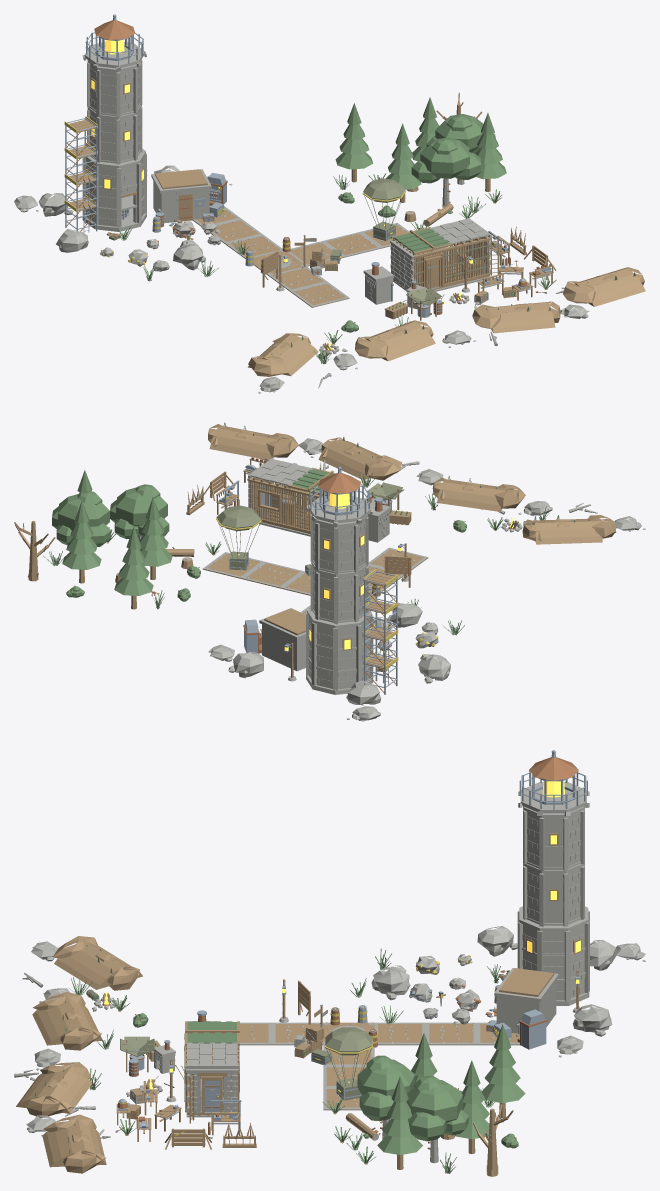
The model's file is phare-ile.glb.
3 renders of one model, top to bottom at view 1: azimuth 30°, elevation 25°; view 2: azimuth 150°, elevation 25°; view 3: azimuth 270°, elevation 25°, orthographic. The views are drawn at different scales.
Parts seen in each view (by area): view 1: 000-lighthouse-base-stage/0, 002-lighthouse-mid-stage/0, 001-lighthouse-mid-stage/0, 068-birch-tree/2, 135-sand-dune-bank/0, 137-sand-dune-bank/0, 134-sand-dune-bank/0, 136-sand-dune-bank/0, 014-lighthouse-loot-room/0, 066-pine-tree/1, 091-twig-wall/0, 062-airdrop-crate/0 (+20 smaller); view 2: 000-lighthouse-base-stage/0, 002-lighthouse-mid-stage/0, 001-lighthouse-mid-stage/0, 136-sand-dune-bank/0, 134-sand-dune-bank/0, 137-sand-dune-bank/0, 135-sand-dune-bank/0, 068-birch-tree/2, 069-birch-tree/2, 014-lighthouse-loot-room/0, 065-pine-tree/1, 066-pine-tree/1 (+23 smaller); view 3: 000-lighthouse-base-stage/0, 002-lighthouse-mid-stage/0, 001-lighthouse-mid-stage/0, 069-birch-tree/2, 136-sand-dune-bank/0, 137-sand-dune-bank/0, 134-sand-dune-bank/0, 135-sand-dune-bank/0, 068-birch-tree/2, 014-lighthouse-loot-room/0, 066-pine-tree/1, 067-pine-tree/1 (+19 smaller).
Part boxes in pixels (bbox=[...]): 000-lighthouse-base-stage/0: bbox=[82, 148, 146, 231]; 002-lighthouse-mid-stage/0: bbox=[87, 59, 142, 117]; 001-lighthouse-mid-stage/0: bbox=[87, 105, 142, 164]; 068-birch-tree/2: bbox=[411, 137, 481, 183]; 135-sand-dune-bank/0: bbox=[472, 301, 560, 333]; 137-sand-dune-bank/0: bbox=[563, 267, 645, 306]; 134-sand-dune-bank/0: bbox=[355, 320, 435, 361]; 136-sand-dune-bank/0: bbox=[248, 333, 318, 376]; 014-lighthouse-loot-room/0: bbox=[151, 169, 211, 223]; 066-pine-tree/1: bbox=[335, 103, 372, 169]; 091-twig-wall/0: bbox=[451, 237, 490, 283]; 062-airdrop-crate/0: bbox=[363, 178, 405, 240]; 000-lighthouse-base-stage/0: bbox=[306, 607, 373, 694]; 002-lighthouse-mid-stage/0: bbox=[310, 514, 368, 574]; 001-lighthouse-mid-stage/0: bbox=[310, 561, 368, 624]; 136-sand-dune-bank/0: bbox=[522, 515, 615, 544]; 134-sand-dune-bank/0: bbox=[432, 477, 525, 511]; 137-sand-dune-bank/0: bbox=[208, 424, 298, 459]; 135-sand-dune-bank/0: bbox=[318, 437, 402, 480]; 068-birch-tree/2: bbox=[110, 484, 169, 539]; 069-birch-tree/2: bbox=[52, 491, 111, 546]; 014-lighthouse-loot-room/0: bbox=[259, 608, 305, 671]; 065-pine-tree/1: bbox=[62, 500, 101, 569]; 066-pine-tree/1: bbox=[114, 526, 153, 595]; 000-lighthouse-base-stage/0: bbox=[517, 906, 589, 1005]; 002-lighthouse-mid-stage/0: bbox=[523, 806, 584, 870]; 001-lighthouse-mid-stage/0: bbox=[523, 863, 584, 926]; 069-birch-tree/2: bbox=[406, 1076, 468, 1141]; 136-sand-dune-bank/0: bbox=[53, 936, 142, 990]; 137-sand-dune-bank/0: bbox=[42, 1114, 106, 1173]; 134-sand-dune-bank/0: bbox=[32, 992, 102, 1050]; 135-sand-dune-bank/0: bbox=[16, 1062, 92, 1118]; 068-birch-tree/2: bbox=[357, 1055, 415, 1121]; 014-lighthouse-loot-room/0: bbox=[494, 968, 558, 1033]; 066-pine-tree/1: bbox=[481, 1024, 525, 1103]; 067-pine-tree/1: bbox=[377, 1076, 422, 1154].
Bounding box in the file's own units: 33.45 × 15.57 × 37.01.
